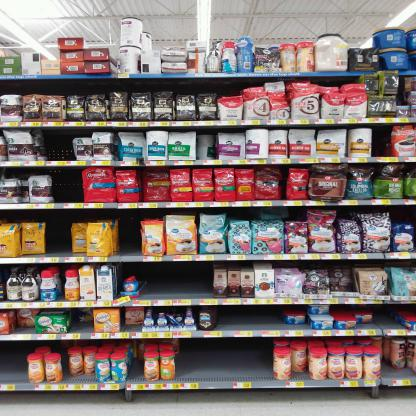Void: (177, 341, 272, 383), (141, 264, 213, 300), (221, 308, 280, 330), (46, 214, 71, 255), (54, 168, 82, 202), (2, 342, 24, 383), (119, 212, 139, 256), (46, 131, 75, 158), (374, 128, 396, 155), (377, 305, 399, 329), (130, 353, 139, 383), (382, 368, 408, 378), (64, 376, 91, 384)
